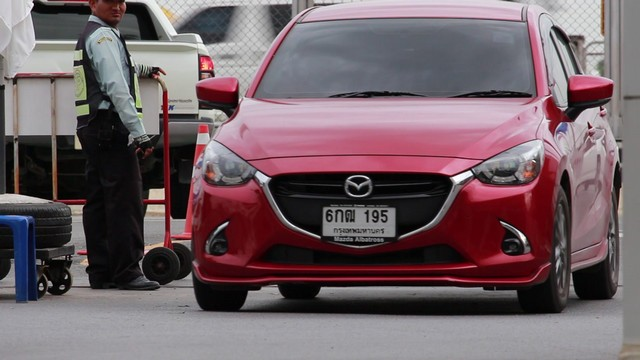in: (323, 207, 395, 237)
out: (319, 202, 400, 244)
